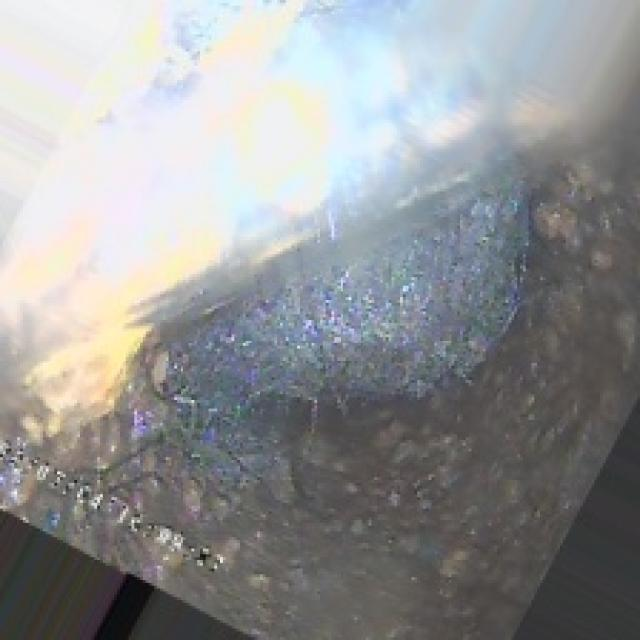Root_blockage: (163, 183, 548, 400)
